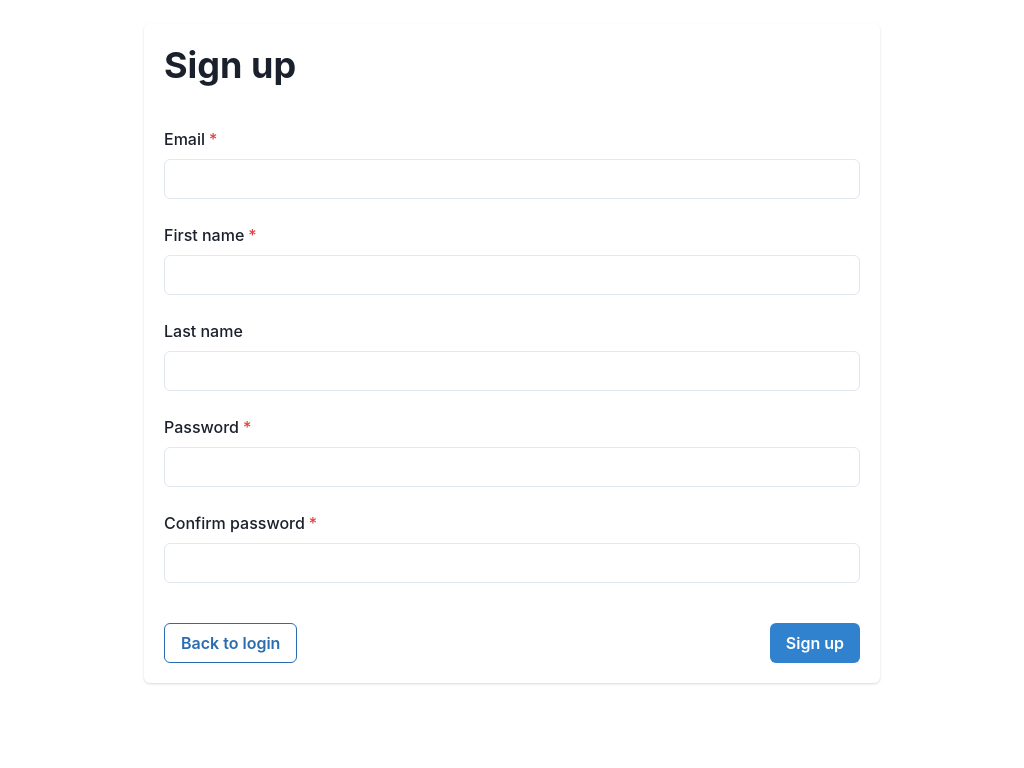
SignUp › should show alert on successfull login
This screenshot has width=1024, height=768.
Type "foo@bar.com" into the field with test id "email" at (512, 179), box left=164, top=159, right=860, bottom=199
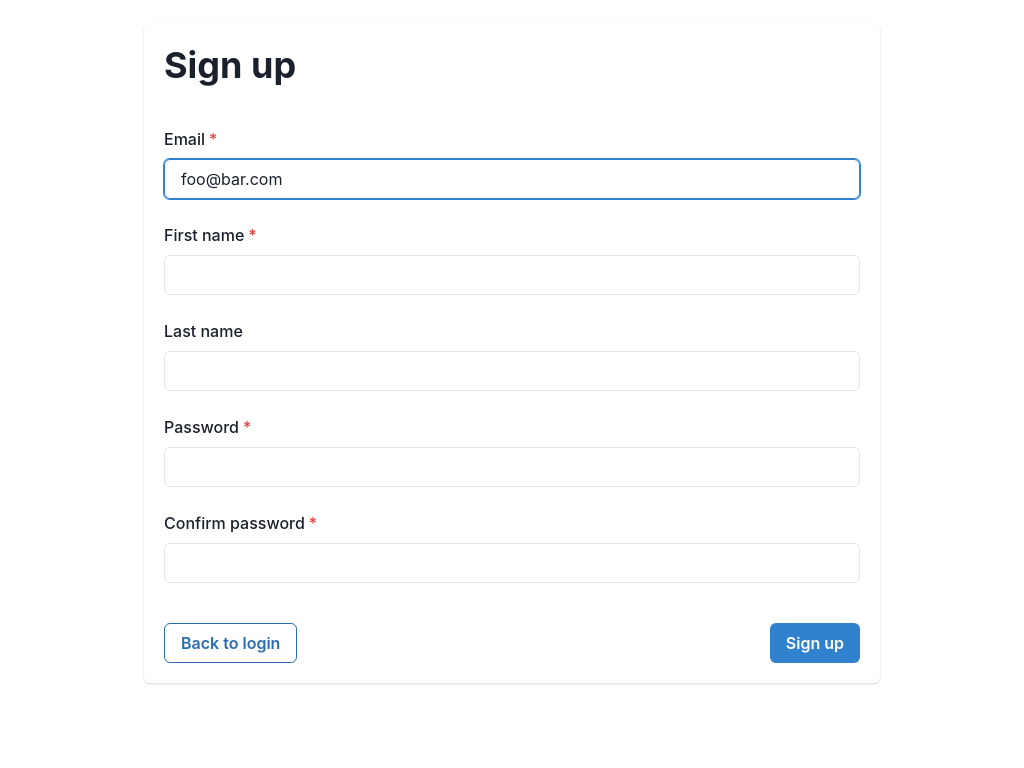
Type "John" into the field with test id "firstName" at (512, 275), box left=164, top=255, right=860, bottom=295
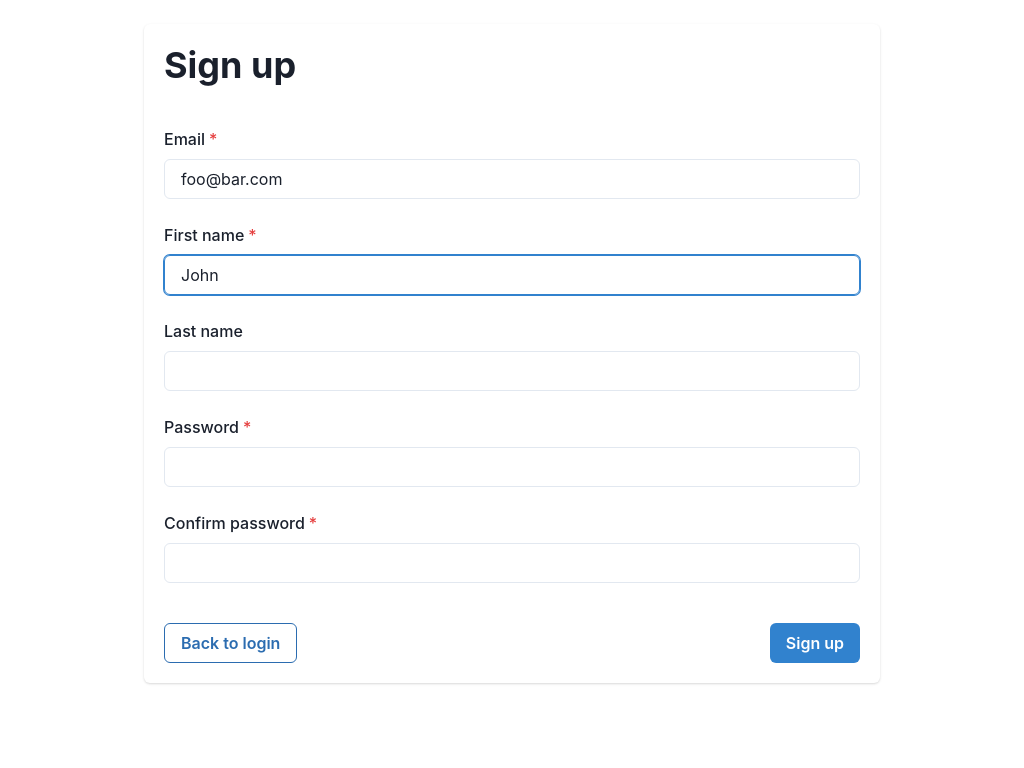
Type "fooB4rPassW0rd" into the password field with test id "password" at (512, 467), box left=164, top=447, right=860, bottom=487
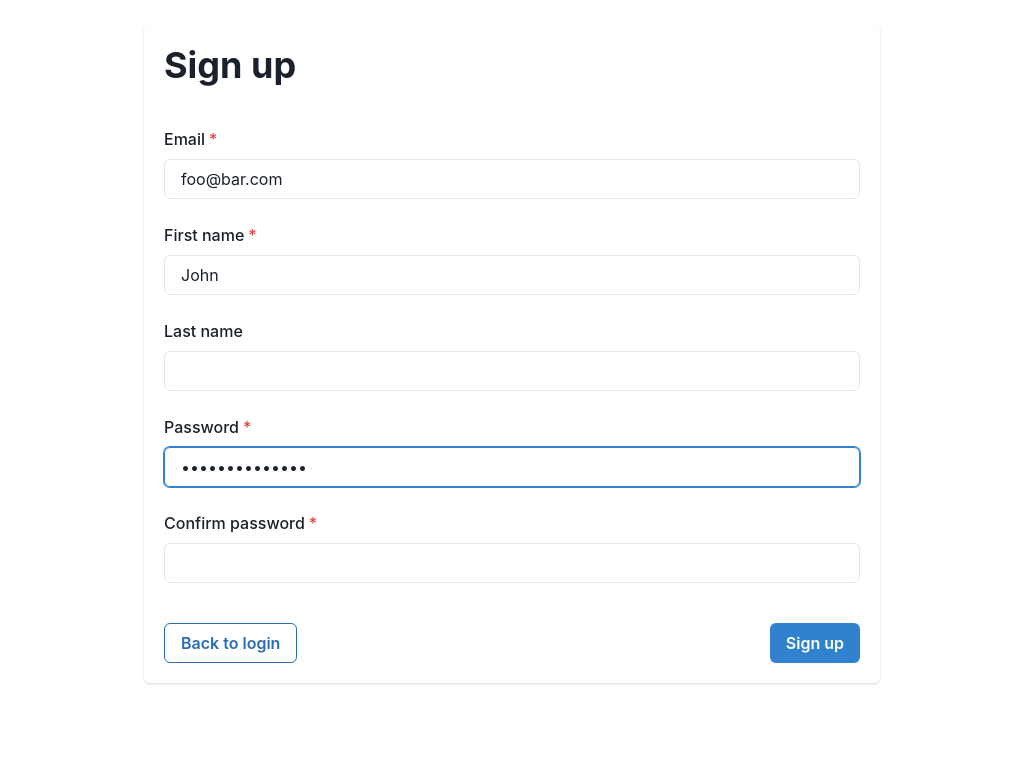
Type "fooB4rPassW0rd" into the password field with test id "confirmPassword" at (512, 563), box left=164, top=543, right=860, bottom=583
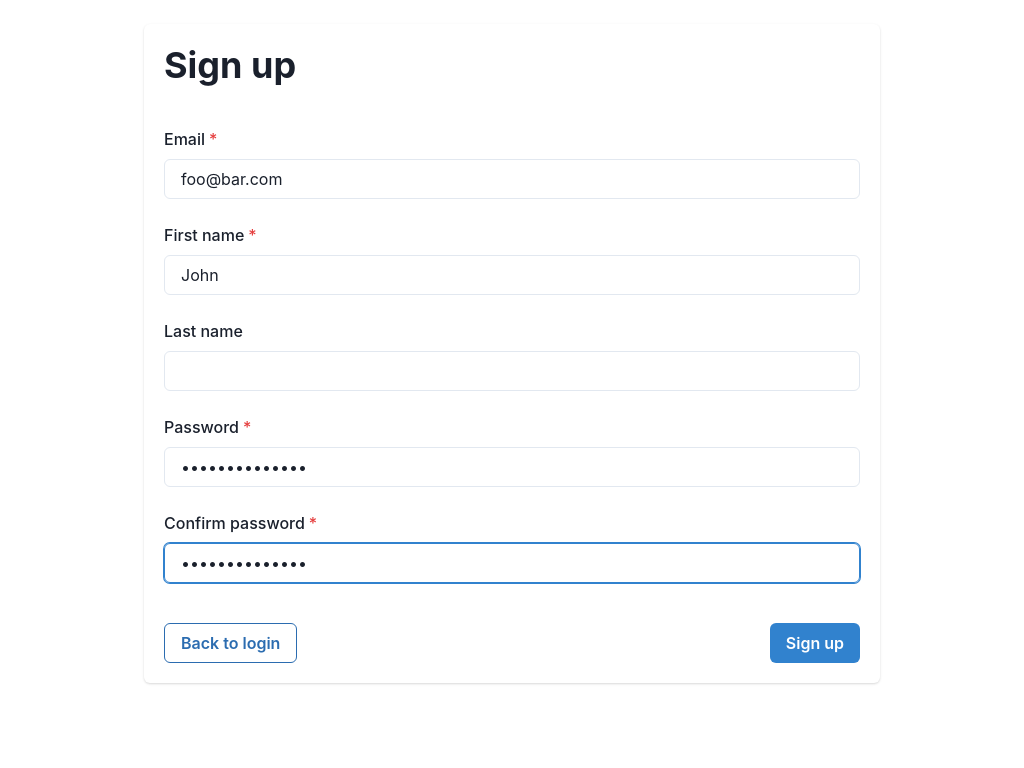
Click the button "Sign up" at (815, 643), box left=770, top=623, right=860, bottom=663
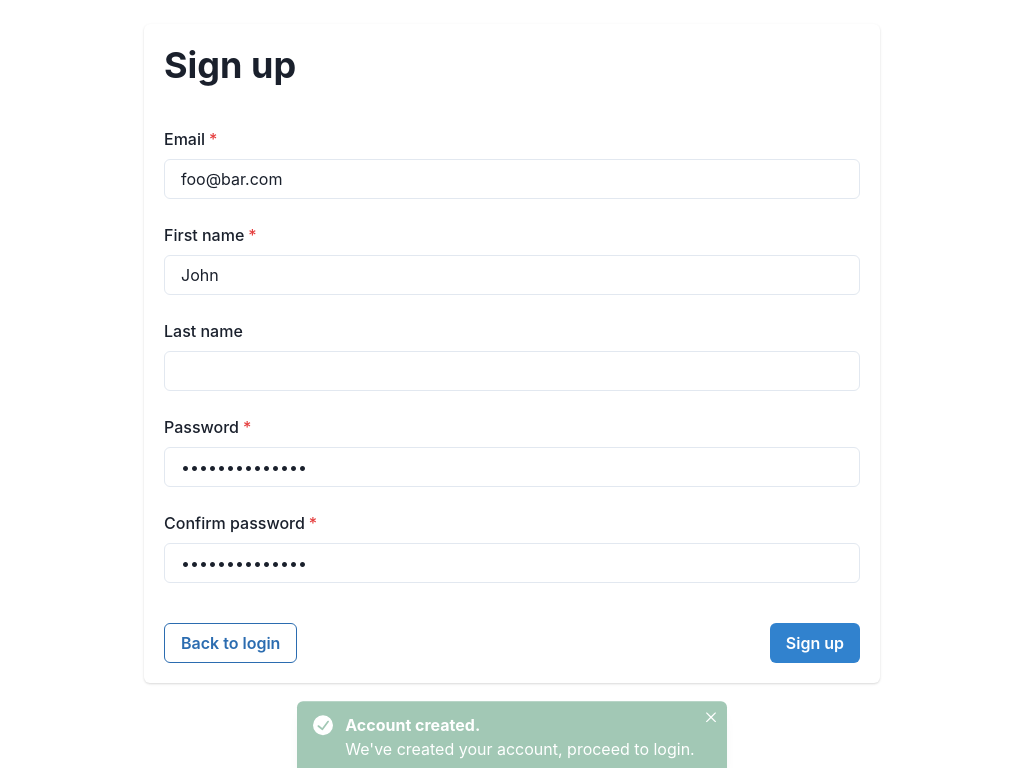
Expected: the text "Account created." is shown, left=345, top=715, right=480, bottom=735
Expected: the text "We've created your account, proceed to login." is shown, left=345, top=737, right=695, bottom=761
